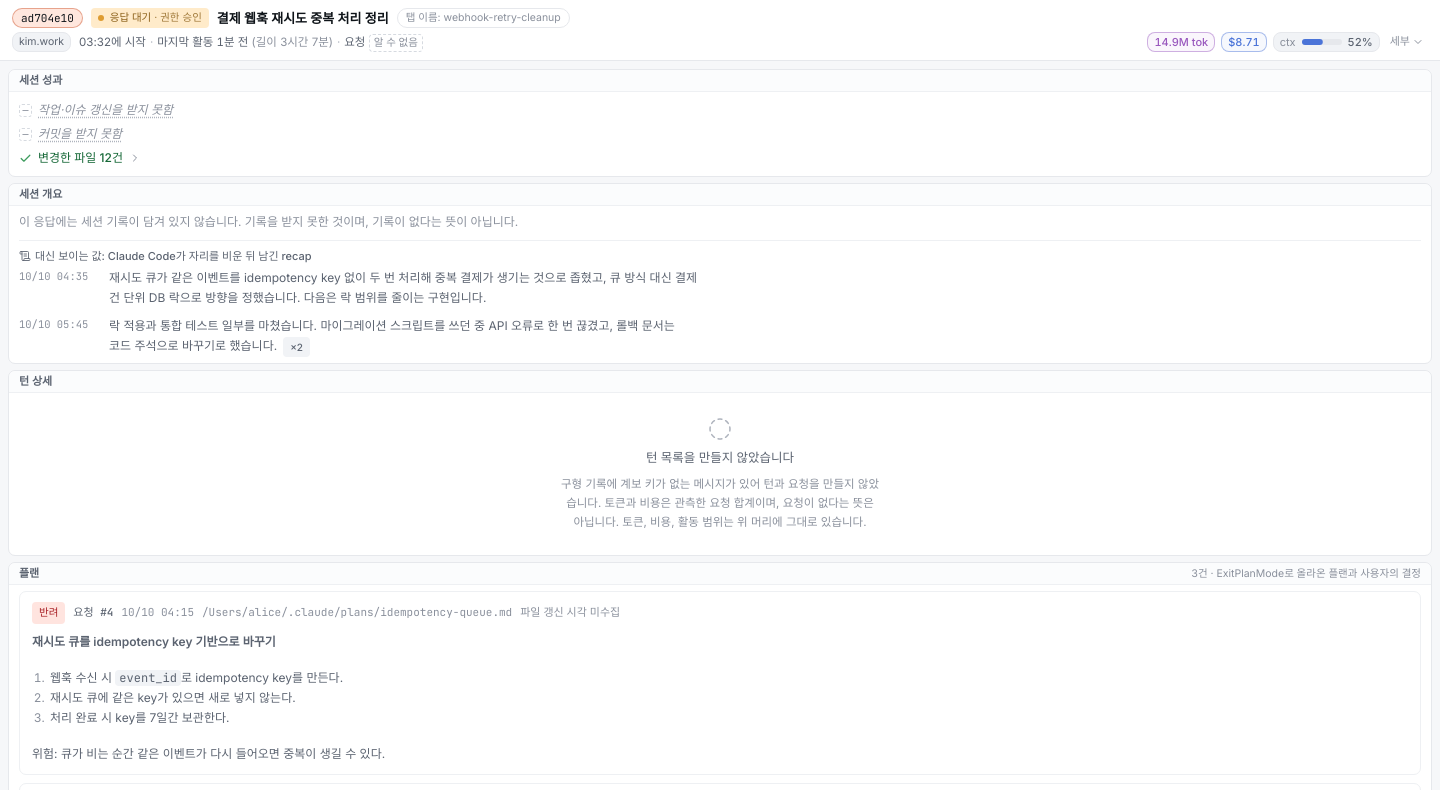
Test: 구형 기록의 턴 경계 판단 불가 › pre_lineage에는 요청·입력·턴을 0으로 만들지 않고 턴 목록도 만들지 않는다
This screenshot has width=1440, height=790.
Expected: the text "턴 목록을 만들지 않았습니다" is shown, x1=646 y1=449 x2=794 y2=467
Expected: the element "턴 상세" shows "구형 기록에 계보 키가 없는 메시지", x1=561 y1=477 x2=879 y2=529
Click the button "세부": (1407, 42) x1=1386 y1=32 x2=1428 y2=52
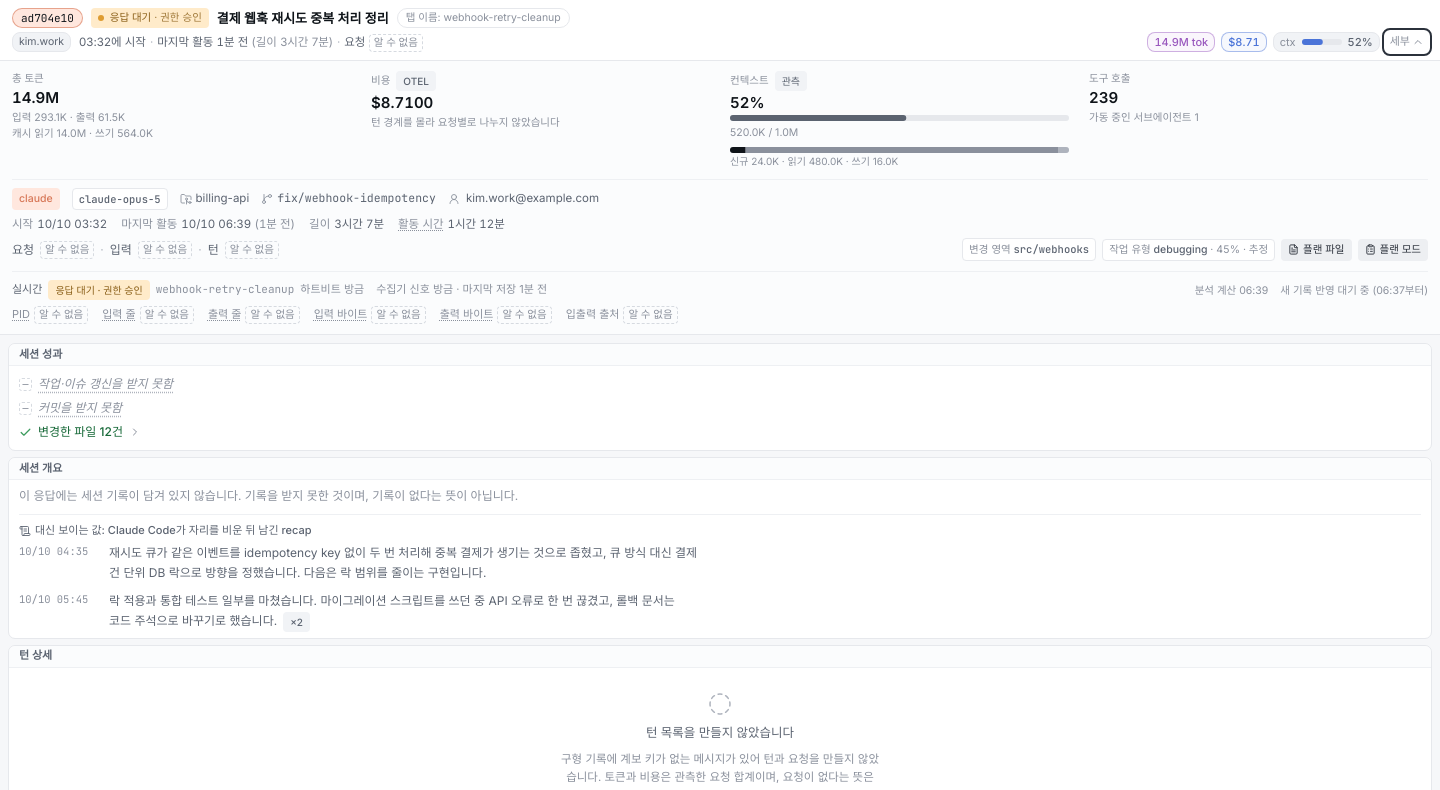
Now the text "알 수 없음" is shown 3 times, box x1=40 y1=241 x2=94 y2=259; x1=138 y1=241 x2=192 y2=259; x1=225 y1=241 x2=279 y2=259
